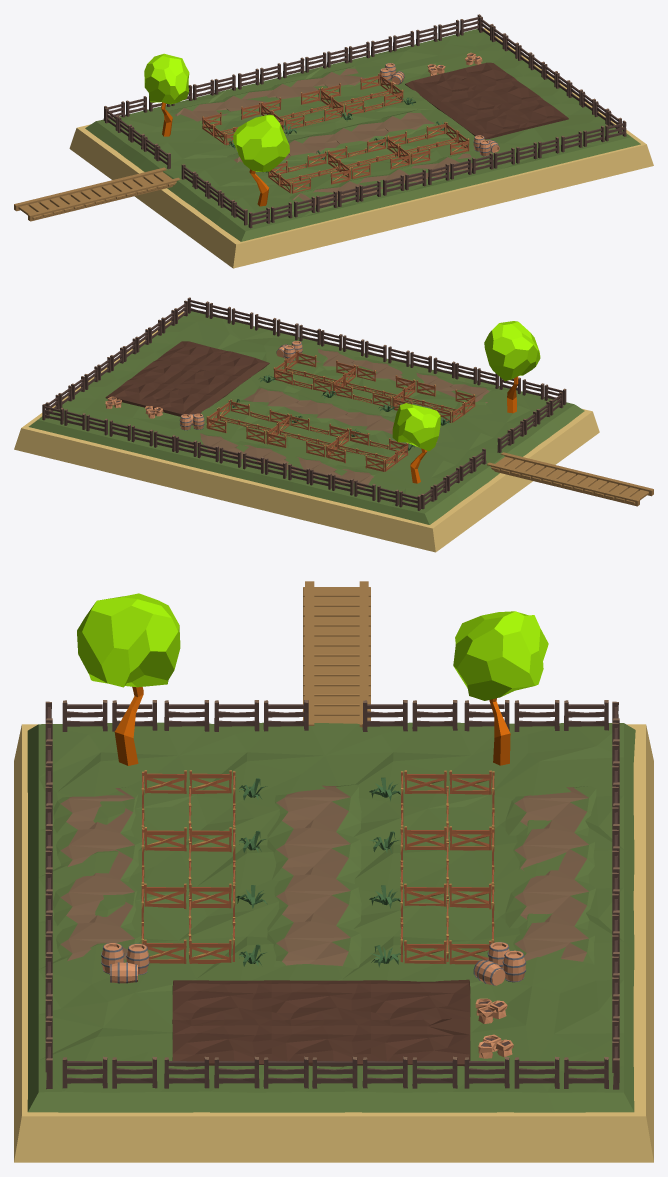
File: island_farm.fbx
The picture shows the model from 3 angles, top to bottom: view 1: azimuth 30°, elevation 25°; view 2: azimuth 150°, elevation 25°; view 3: azimuth 270°, elevation 25°; orthographic projection. The views are drawn at different scales.
Visible parts, largest first — view 1: Grass_Base, Cube, Mud_Patch_H, bridge, Ground_Path_V.001, Ground_Path_V, tree.001, tree, Ground_Path_V.002; view 2: Grass_Base, Cube, Mud_Patch_H, bridge, Ground_Path_V, tree.001, Ground_Path_V.002, Ground_Path_V.001, tree; view 3: Grass_Base, Cube, Mud_Patch_H, Ground_Path_V, Ground_Path_V.001, Ground_Path_V.002, tree.001, bridge, tree, Fence_5.046, Fence_5.048, Fence_5.049 (+16 smaller).
Boxes of the visible parts, x1,y1,x2,y2 form: Grass_Base: [85, 29, 640, 241]; Cube: [69, 28, 653, 268]; Mud_Patch_H: [405, 62, 568, 139]; bridge: [14, 167, 180, 221]; Ground_Path_V.001: [169, 66, 372, 123]; Ground_Path_V: [227, 109, 438, 162]; tree.001: [233, 114, 289, 206]; tree: [144, 53, 189, 136]; Ground_Path_V.002: [289, 152, 485, 208]; Grass_Base: [28, 311, 584, 524]; Cube: [14, 311, 599, 552]; Mud_Patch_H: [105, 341, 269, 416]; bridge: [487, 452, 653, 506]; Ground_Path_V: [238, 386, 437, 444]; tree.001: [484, 321, 540, 413]; Ground_Path_V.002: [301, 348, 491, 404]; Ground_Path_V.001: [180, 433, 375, 492]; tree: [392, 403, 440, 483]; Grass_Base: [27, 722, 635, 1112]; Cube: [14, 724, 653, 1162]; Mud_Patch_H: [172, 979, 470, 1066]; Ground_Path_V: [267, 784, 361, 968]; Ground_Path_V.001: [505, 786, 596, 964]; Ground_Path_V.002: [53, 787, 141, 960]; tree.001: [77, 593, 180, 765]; bridge: [303, 581, 370, 727]; tree: [453, 611, 548, 765]; Fence_5.046: [312, 1056, 357, 1088]; Fence_5.048: [412, 1056, 457, 1088]; Fence_5.049: [464, 1056, 509, 1088].
Size of the model in its own units: 11.62 by 2.31 by 6.
